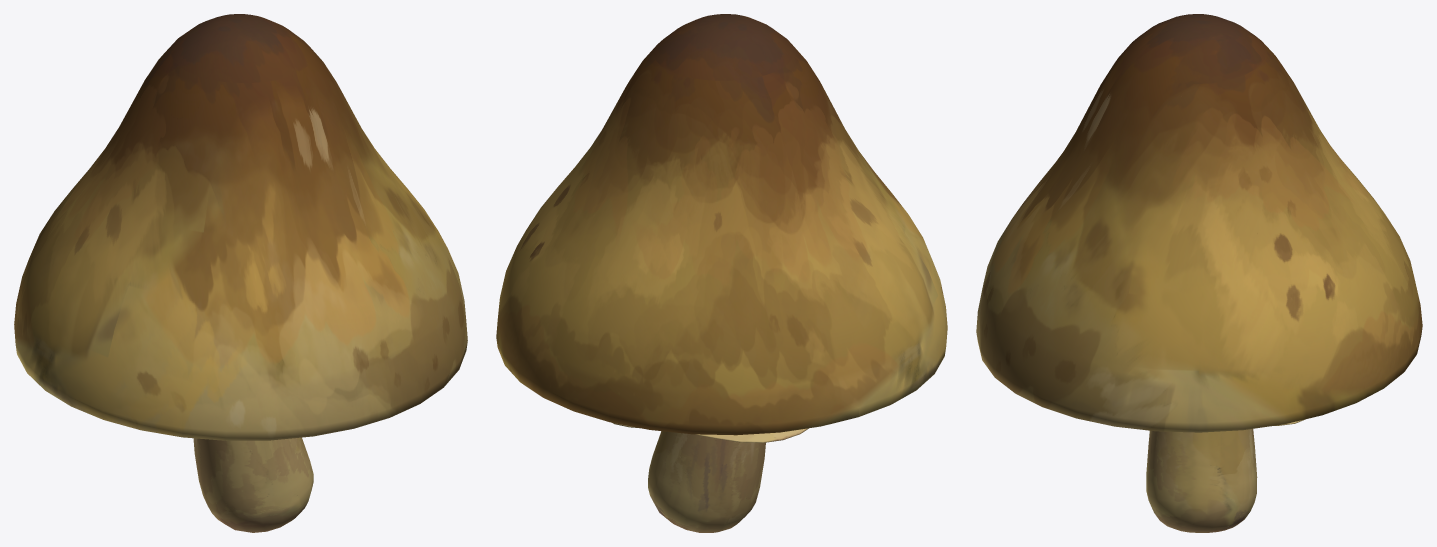
Rendered from GlowshroomBVisuals.fbx.
3 renders of one model, left to right at view 1: azimuth 30°, elevation 25°; view 2: azimuth 150°, elevation 25°; view 3: azimuth 270°, elevation 25°, orthographic.
Visible parts, largest first — view 1: GlowshroomBCap, GlowshroomBStalk; view 2: GlowshroomBCap, GlowshroomBStalk; view 3: GlowshroomBCap, GlowshroomBStalk.
Part boxes in pixels (x1,y1,x2,y2): GlowshroomBCap: (14, 14, 467, 440); GlowshroomBStalk: (193, 437, 313, 532); GlowshroomBCap: (496, 14, 947, 435); GlowshroomBStalk: (612, 422, 808, 532); GlowshroomBCap: (976, 14, 1422, 432); GlowshroomBStalk: (1146, 419, 1305, 532).
Size of the model in its own units: 0.4735 by 0.584 by 0.4739.
Materials: 1 (1 with a texture image).
